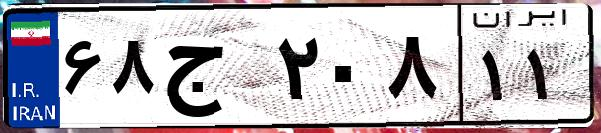0: (330, 28, 385, 110)
1: (475, 38, 525, 113), (525, 38, 570, 115)
2: (270, 28, 330, 110)
6: (57, 26, 110, 100)
8: (385, 28, 445, 110), (110, 28, 158, 98)
ج: (158, 20, 270, 120)
